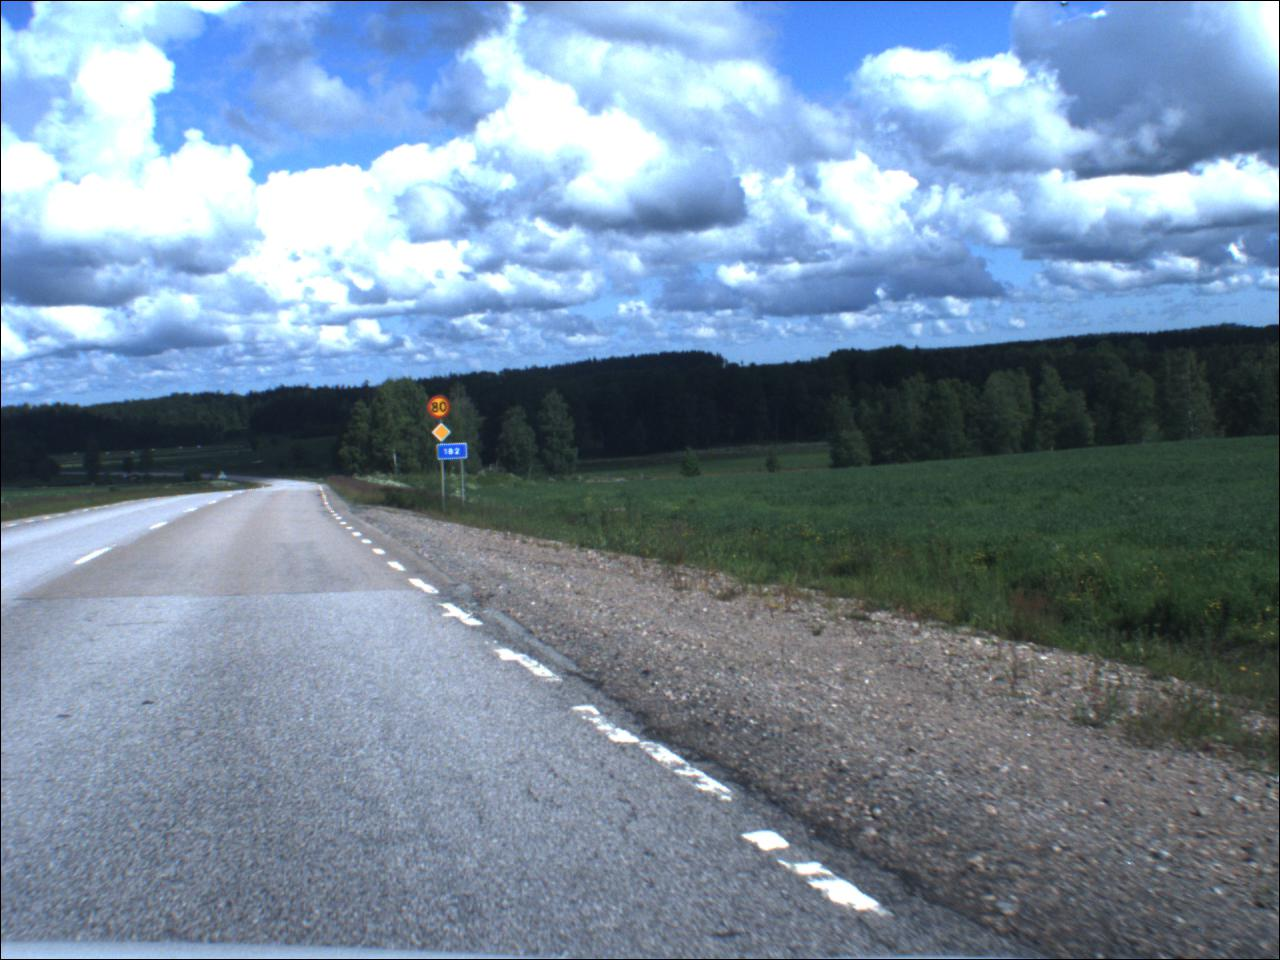80_SIGN: (429, 397, 453, 422)
PRIORITY_ROAD: (433, 424, 455, 445)
